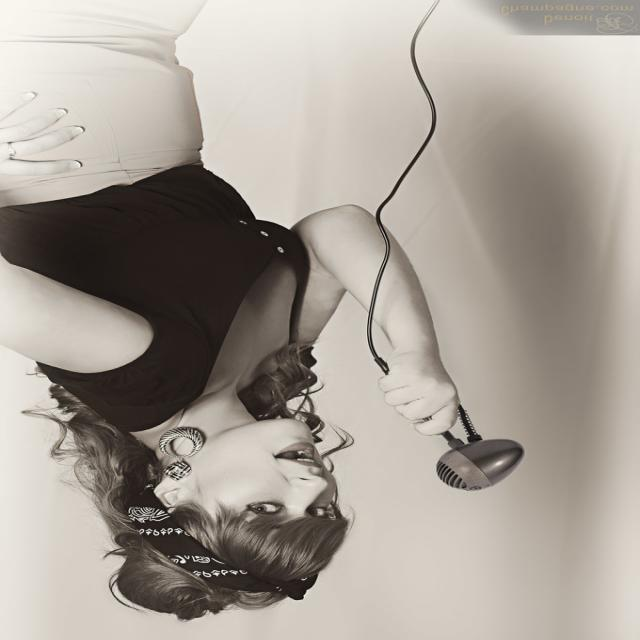dryer: (360, 227, 546, 507)
